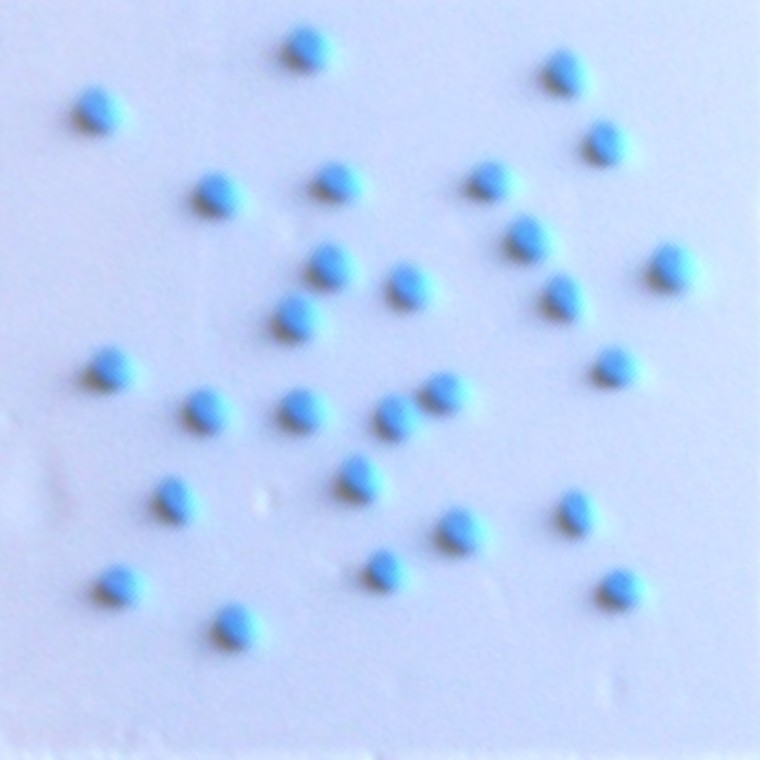Pill: (80, 344, 139, 399), (434, 502, 488, 560), (88, 563, 149, 613), (183, 381, 233, 437), (336, 455, 390, 505), (362, 548, 417, 596), (154, 477, 201, 530), (558, 487, 603, 539), (276, 295, 325, 342), (76, 81, 120, 133), (373, 401, 422, 447), (194, 169, 238, 219), (584, 116, 627, 166), (213, 603, 259, 649), (508, 212, 548, 264), (385, 260, 429, 306), (650, 241, 693, 287), (543, 47, 589, 89), (305, 244, 349, 286), (424, 371, 468, 412), (594, 570, 638, 611), (311, 166, 361, 202), (287, 389, 326, 435), (471, 160, 518, 198), (544, 275, 586, 317), (595, 349, 641, 385), (288, 24, 329, 64)
